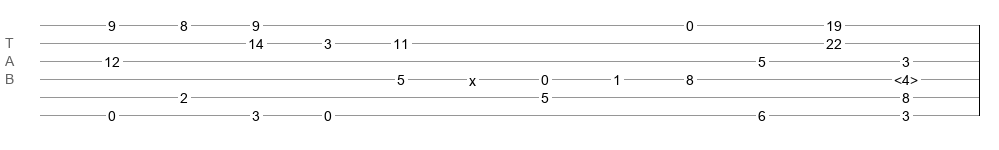0: (108, 108, 116, 118), (324, 108, 332, 118), (541, 72, 549, 82), (686, 18, 694, 28)
1: (613, 72, 621, 82)
11: (393, 36, 409, 46)
12: (104, 54, 120, 64)
14: (248, 36, 264, 46)
19: (826, 18, 842, 28)
2: (180, 90, 188, 100)
22: (826, 36, 842, 46)
3: (252, 108, 260, 118), (324, 36, 332, 46), (902, 54, 910, 64), (902, 108, 910, 118)
5: (397, 72, 405, 82), (541, 90, 549, 100), (758, 54, 766, 64)
6: (758, 108, 766, 118)
8: (180, 18, 188, 28), (686, 72, 694, 82), (902, 90, 910, 100)
9: (108, 18, 116, 28), (252, 18, 260, 28)
harmonic: (894, 72, 918, 82)
x: (469, 73, 476, 81)
